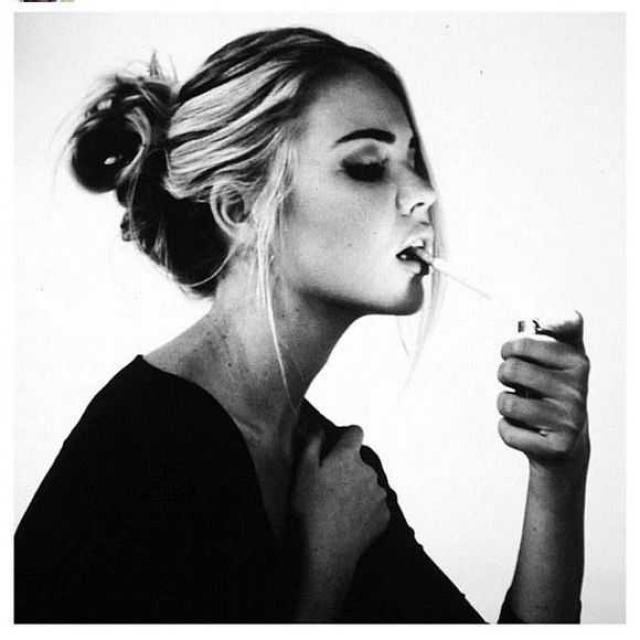Smooking: (417, 242, 505, 310)
